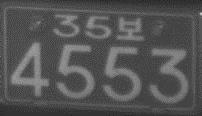3: (148, 48, 189, 105), (52, 13, 79, 38)
4: (9, 41, 50, 97)
5: (54, 43, 95, 100), (101, 45, 142, 102), (84, 14, 111, 39)
보: (116, 15, 143, 40)
